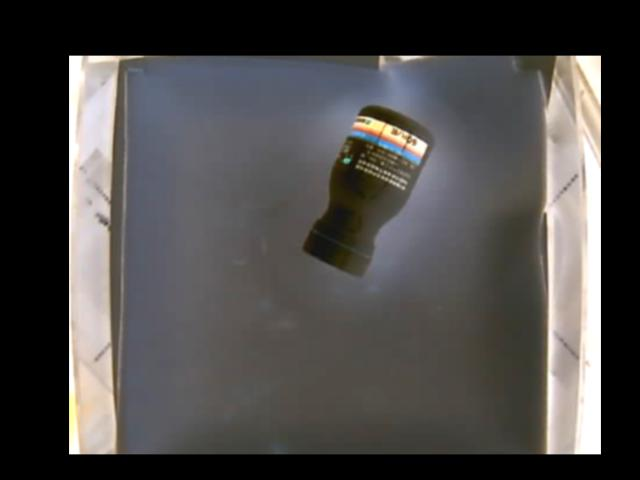Bottle: (301, 103, 433, 276)
